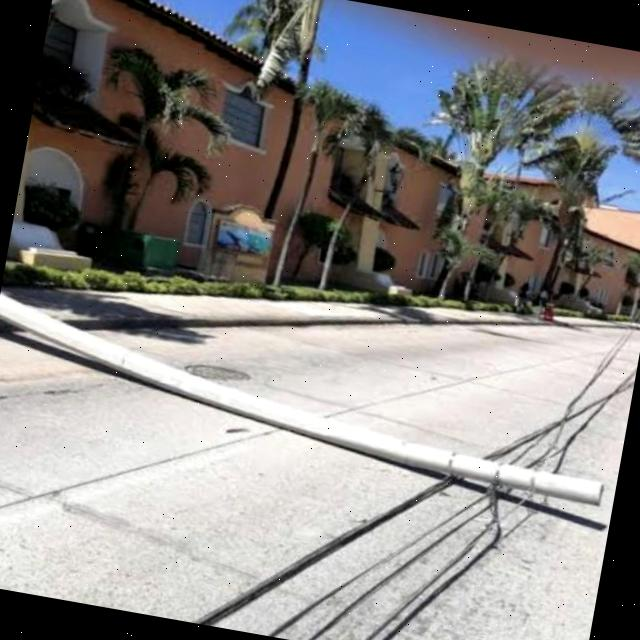Broken Pole: (0, 285, 601, 515)
